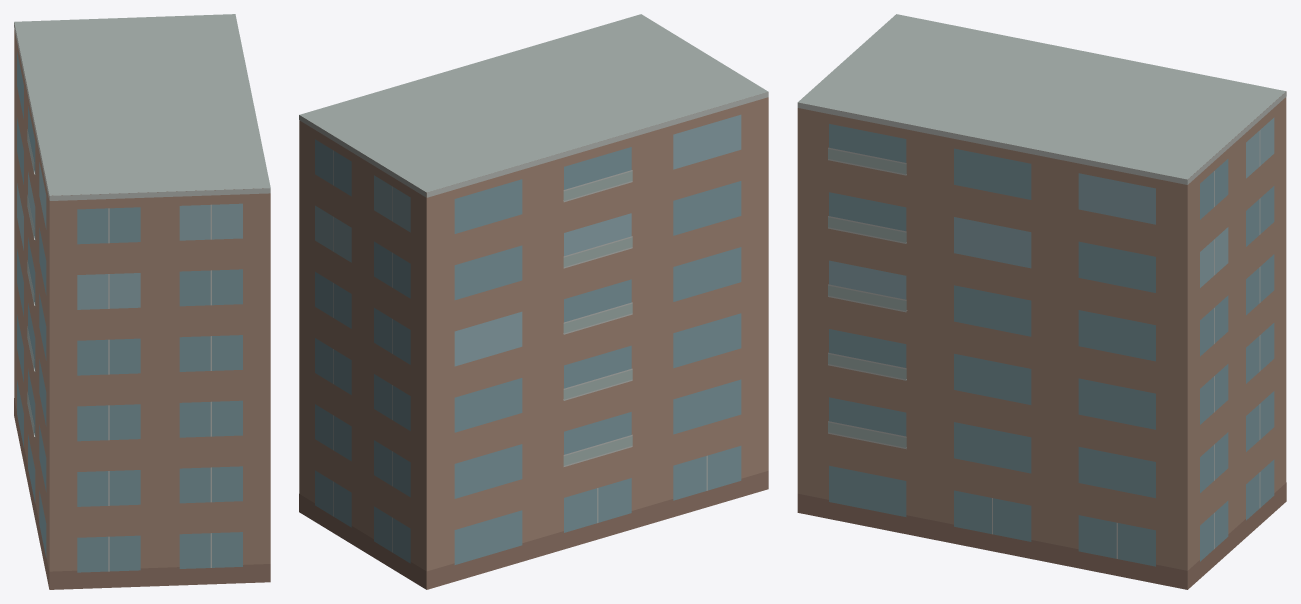
The model's file is survey-upis-33000050.glb.
3 renders of one model, left to right at view 1: azimuth 30°, elevation 25°; view 2: azimuth 150°, elevation 25°; view 3: azimuth 270°, elevation 25°, orthographic. The views are drawn at different scales.
Parts seen in each view (by area): view 1: survey-upis-33000050.tmp; view 2: survey-upis-33000050.tmp; view 3: survey-upis-33000050.tmp.
Boxes of the visible parts, box(x1,y1,x2,y2) form: survey-upis-33000050.tmp: box(14, 14, 270, 589); survey-upis-33000050.tmp: box(299, 14, 768, 589); survey-upis-33000050.tmp: box(797, 14, 1286, 589).
Size of the model in its own units: 15.85 by 18.3 by 19.77.
